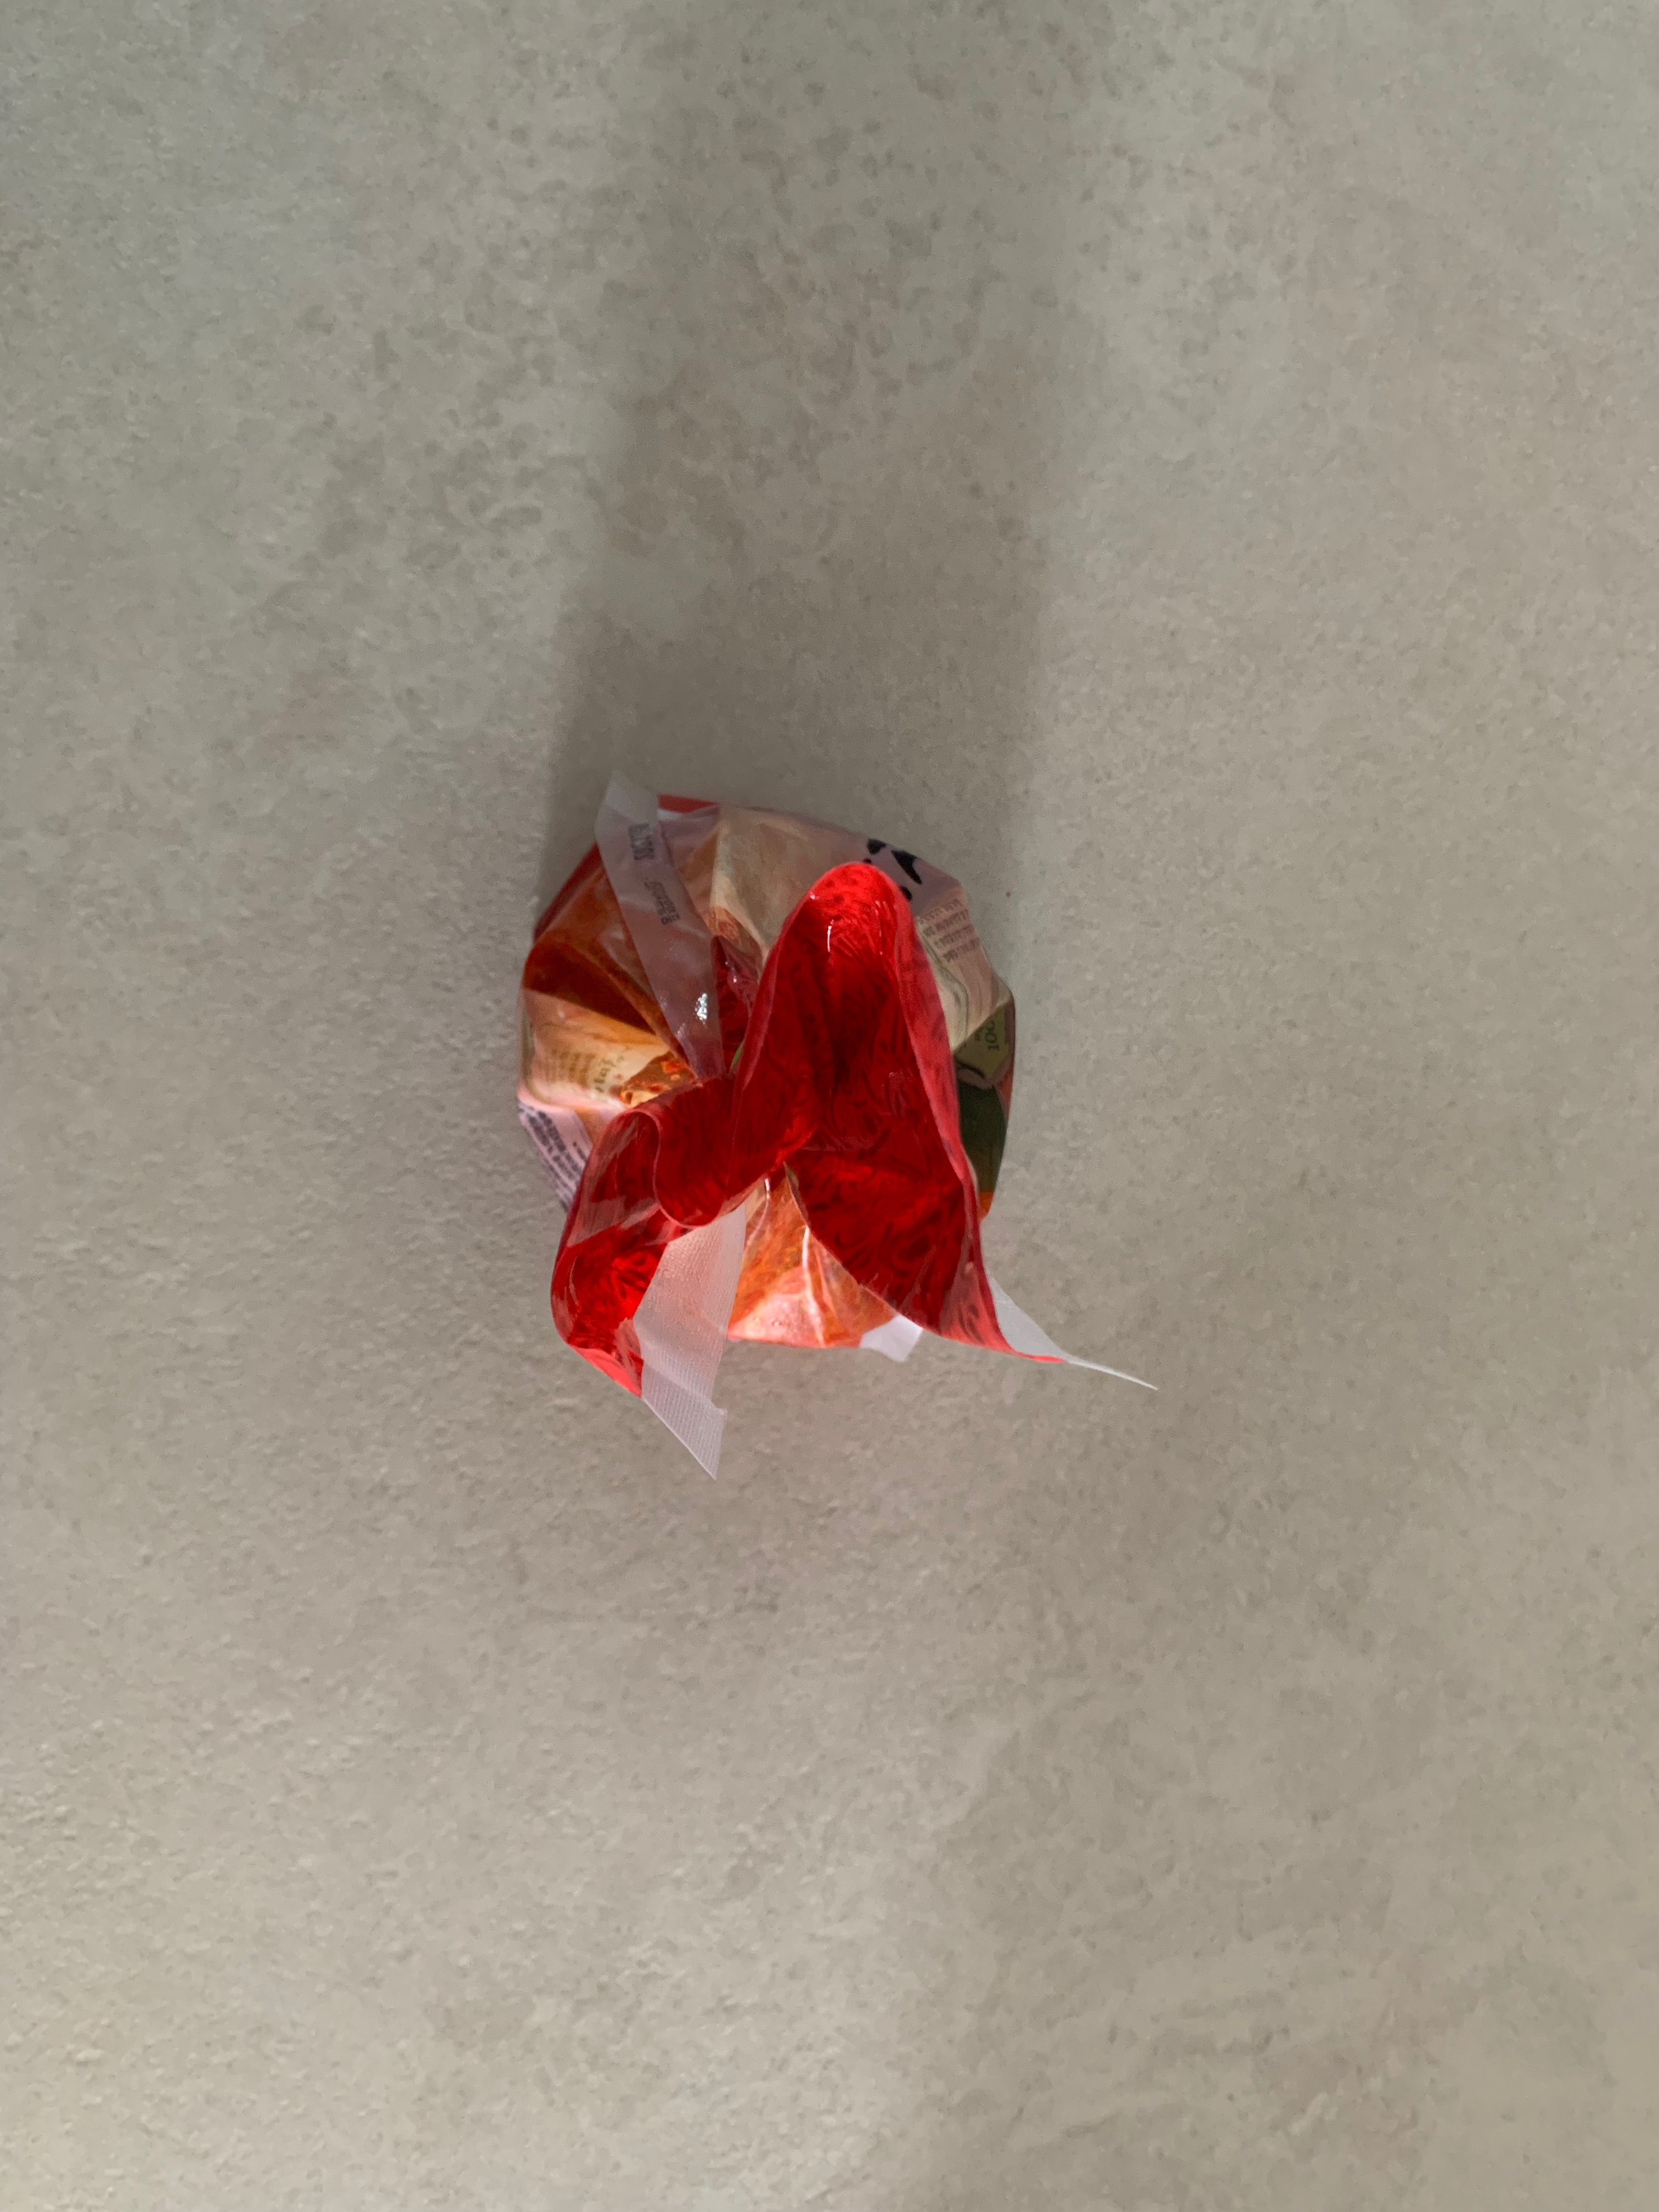kimchi: (511, 799, 1025, 1397)
